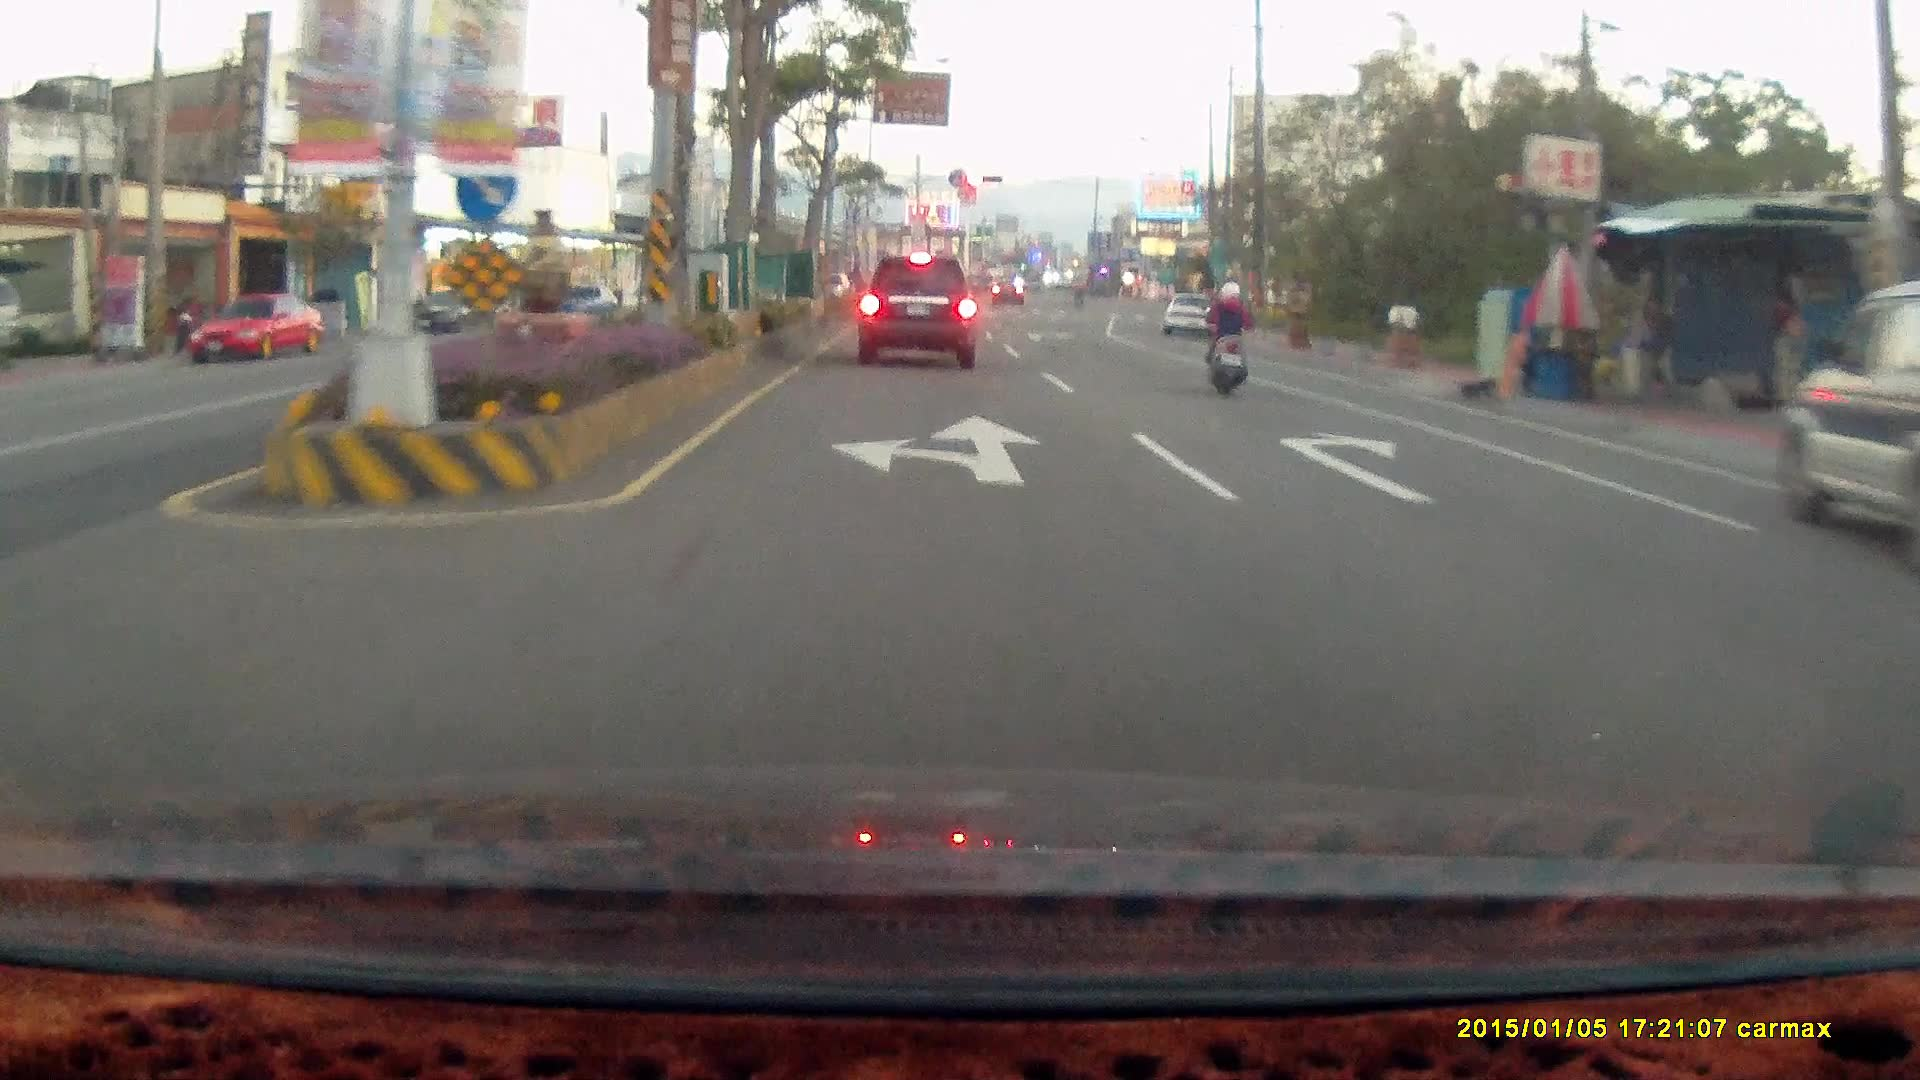rider: (1201, 279, 1252, 398)
vehicle: (1779, 272, 1920, 572), (857, 255, 974, 369), (185, 290, 326, 363), (1896, 493, 1920, 836), (1883, 528, 1920, 690), (408, 293, 509, 340), (1162, 291, 1222, 340)
